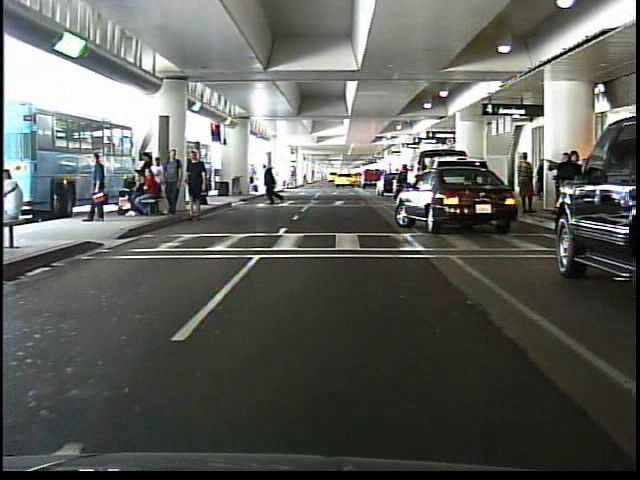person: (82, 146, 114, 232), (518, 150, 536, 215), (265, 161, 289, 209)
